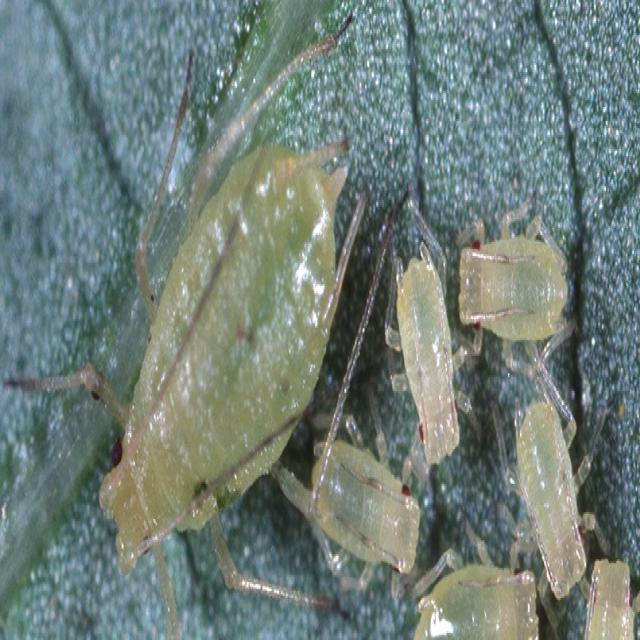Aphids: (6, 2, 623, 640)
